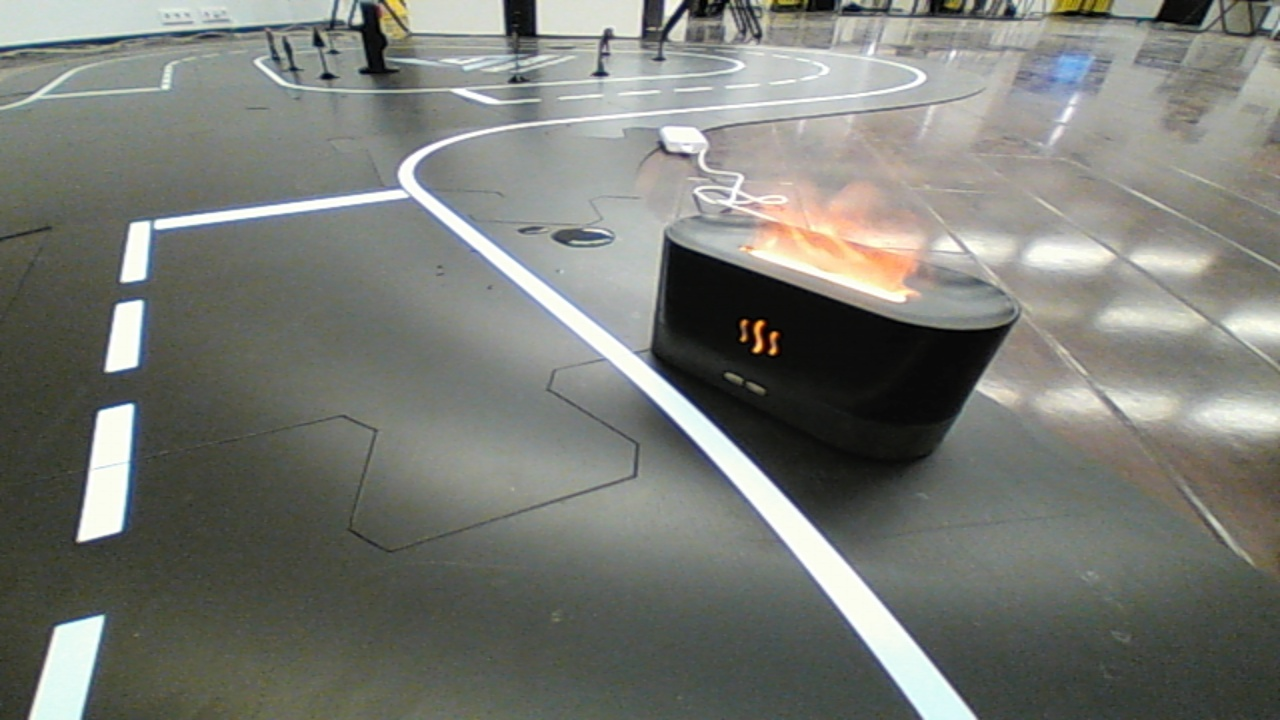Movement prohibition: (630, 191, 1034, 462)
